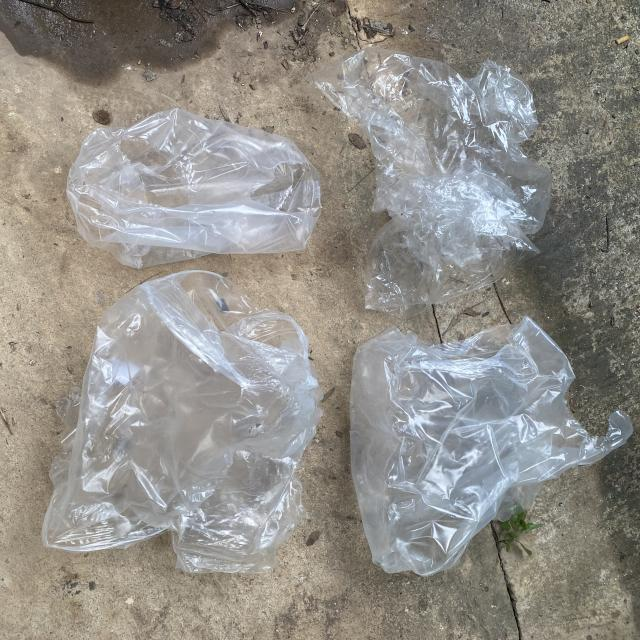Single-layer Plastic: (40, 270, 320, 572), (350, 318, 632, 575), (310, 48, 552, 315), (66, 108, 321, 269)
